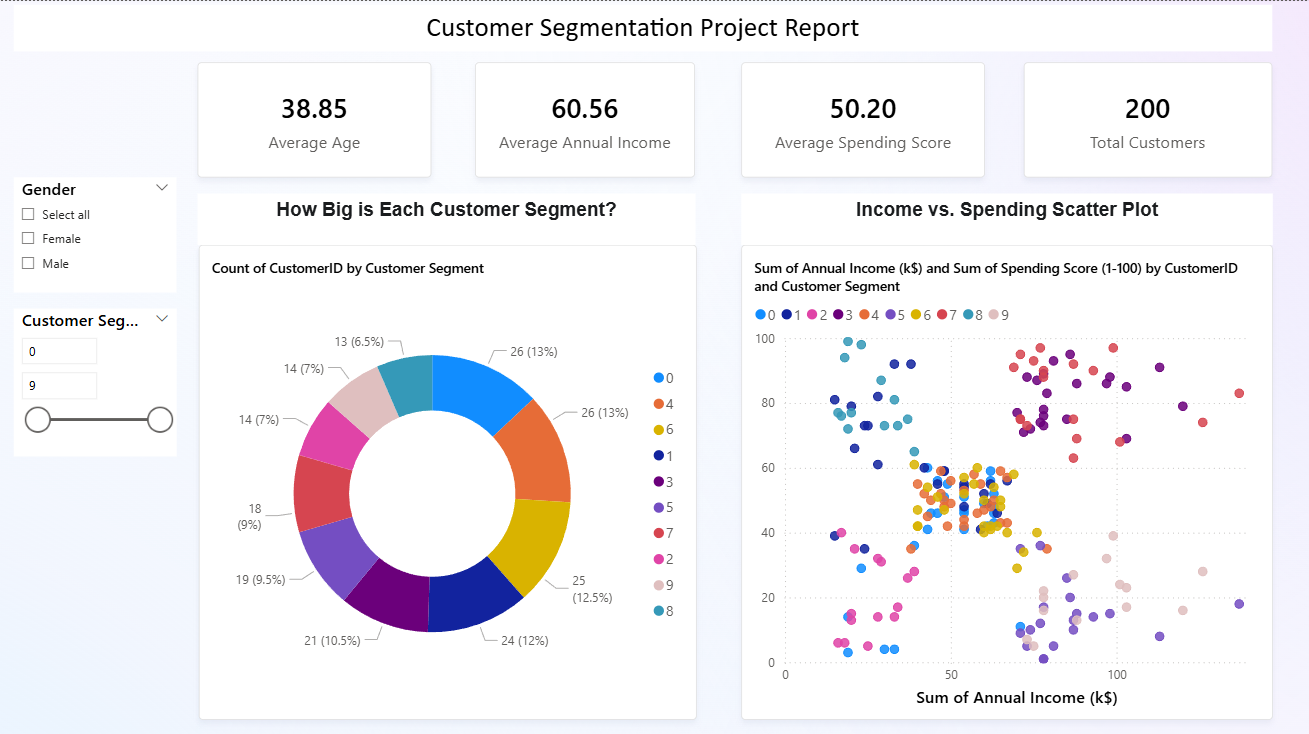

The page's visual inventory and layout, read from the dashboard file:
{"tool":"powerbi","page":{"name":"Page 1","canvas":[1280,720],"ordinal":0},"visuals":[{"type":"card","fields":{"Values":["Mall_Customers_with_clusters.Average Age"]},"box":[193.5,60.4,229.2,112.5],"z":0},{"type":"card","fields":{"Values":["Mall_Customers_with_clusters.Average Annual Income"]},"box":[465.2,60.4,215.4,112.5],"z":1},{"type":"card","fields":{"Values":["Mall_Customers_with_clusters.Average Spending Score"]},"box":[724.5,60.4,238.8,112.5],"z":2},{"type":"card","fields":{"Values":["Mall_Customers_with_clusters.Total Customers"]},"box":[1001.7,60.4,242.9,112.5],"z":3},{"type":"donutChart","fields":{"Category":["Mall_Customers_with_clusters.Customer Segment"],"Y":["CountNonNull(Mall_Customers_with_clusters.CustomerID)"]},"box":[194.9,238.8,487.1,465.2],"z":4},{"type":"textbox","box":[193.5,188,487.1,50.8],"z":5},{"type":"scatterChart","fields":{"X":["Sum(Mall_Customers_with_clusters.Annual Income (k$))"],"Y":["Sum(Mall_Customers_with_clusters.Spending Score (1-100))"],"Series":["Mall_Customers_with_clusters.Customer Segment"],"Category":["Mall_Customers_with_clusters.CustomerID"]},"box":[724.5,238.8,520.1,465.2],"z":6},{"type":"textbox","box":[724.5,188,520.1,50.8],"z":7},{"type":"slicer","fields":{"Values":["Mall_Customers_with_clusters.Gender"]},"box":[13.7,172.9,159.2,112.5],"z":8},{"type":"slicer","fields":{"Values":["Mall_Customers_with_clusters.Customer Segment"]},"box":[13.7,300.5,159.2,144.1],"z":9},{"type":"textbox","box":[13.7,4.1,1230.9,45.3],"z":10}]}

Visuals, with their boxes in screenshot pixels (x1, y1, x2, y2), scaled from the page's 1280x720 canvas onto the 1309x734 screenshot:
card - Mall_Customers_with_clusters.Average Age: [198, 62, 432, 176]
card - Mall_Customers_with_clusters.Average Annual Income: [476, 62, 696, 176]
card - Mall_Customers_with_clusters.Average Spending Score: [741, 62, 985, 176]
card - Mall_Customers_with_clusters.Total Customers: [1024, 62, 1273, 176]
donutChart - Mall_Customers_with_clusters.Customer Segment x CountNonNull(Mall_Customers_with_clusters.CustomerID): [199, 243, 697, 718]
textbox: [198, 192, 696, 243]
scatterChart - Sum(Mall_Customers_with_clusters.Annual Income (k$)) x Sum(Mall_Customers_with_clusters.Spending Score (1-100)): [741, 243, 1273, 718]
textbox: [741, 192, 1273, 243]
slicer - Mall_Customers_with_clusters.Gender: [14, 176, 177, 291]
slicer - Mall_Customers_with_clusters.Customer Segment: [14, 306, 177, 453]
textbox: [14, 4, 1273, 50]
